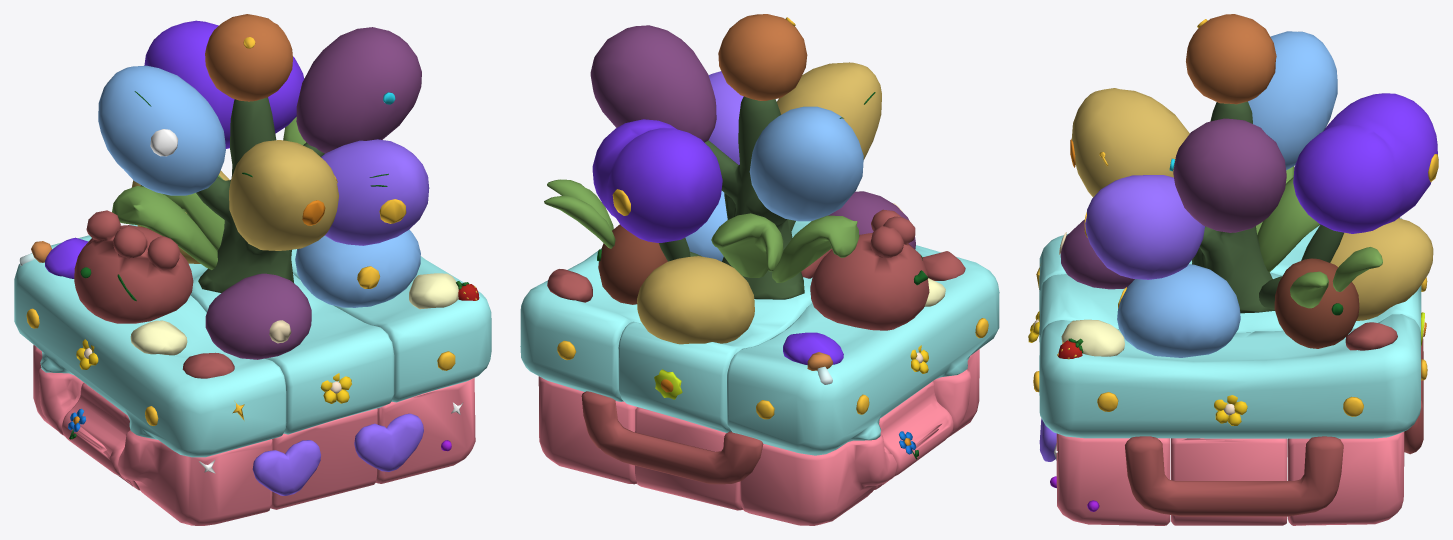
File: CuteToyPlant3dModel1.fbx
3 views of the same model, side by side, from view 1: azimuth 30°, elevation 25°; view 2: azimuth 150°, elevation 25°; view 3: azimuth 270°, elevation 25° (orthographic). The views are drawn at different scales.
Visible parts, largest first — view 1: M_CuteToyPlant3dModel1, S_CuteToyPlant3dModel1, D_CuteToyPlant3dModel1_1, D_CuteToyPlant3dModel1_11; view 2: M_CuteToyPlant3dModel1, S_CuteToyPlant3dModel1, D_CuteToyPlant3dModel1_4, D_CuteToyPlant3dModel1_5; view 3: M_CuteToyPlant3dModel1, S_CuteToyPlant3dModel1, D_CuteToyPlant3dModel1_3.
Part boxes in pixels (x1=…): M_CuteToyPlant3dModel1: x1=14, y1=14, x2=491, y2=525; S_CuteToyPlant3dModel1: x1=252, y1=440, x2=320, y2=495; D_CuteToyPlant3dModel1_1: x1=320, y1=373, x2=351, y2=403; D_CuteToyPlant3dModel1_11: x1=150, y1=129, x2=177, y2=156; M_CuteToyPlant3dModel1: x1=520, y1=14, x2=999, y2=525; S_CuteToyPlant3dModel1: x1=581, y1=391, x2=763, y2=484; D_CuteToyPlant3dModel1_4: x1=654, y1=369, x2=682, y2=399; D_CuteToyPlant3dModel1_5: x1=807, y1=352, x2=833, y2=384; M_CuteToyPlant3dModel1: x1=1039, y1=14, x2=1437, y2=525; S_CuteToyPlant3dModel1: x1=1125, y1=337, x2=1423, y2=516; D_CuteToyPlant3dModel1_3: x1=1214, y1=395, x2=1247, y2=425.
Bounding box in the file's own units: 687 × 820 × 697.
